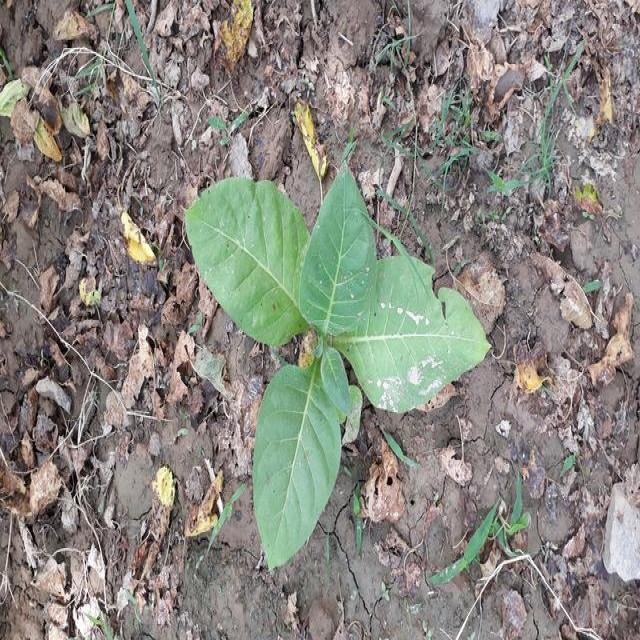crop: (180, 154, 492, 578)
